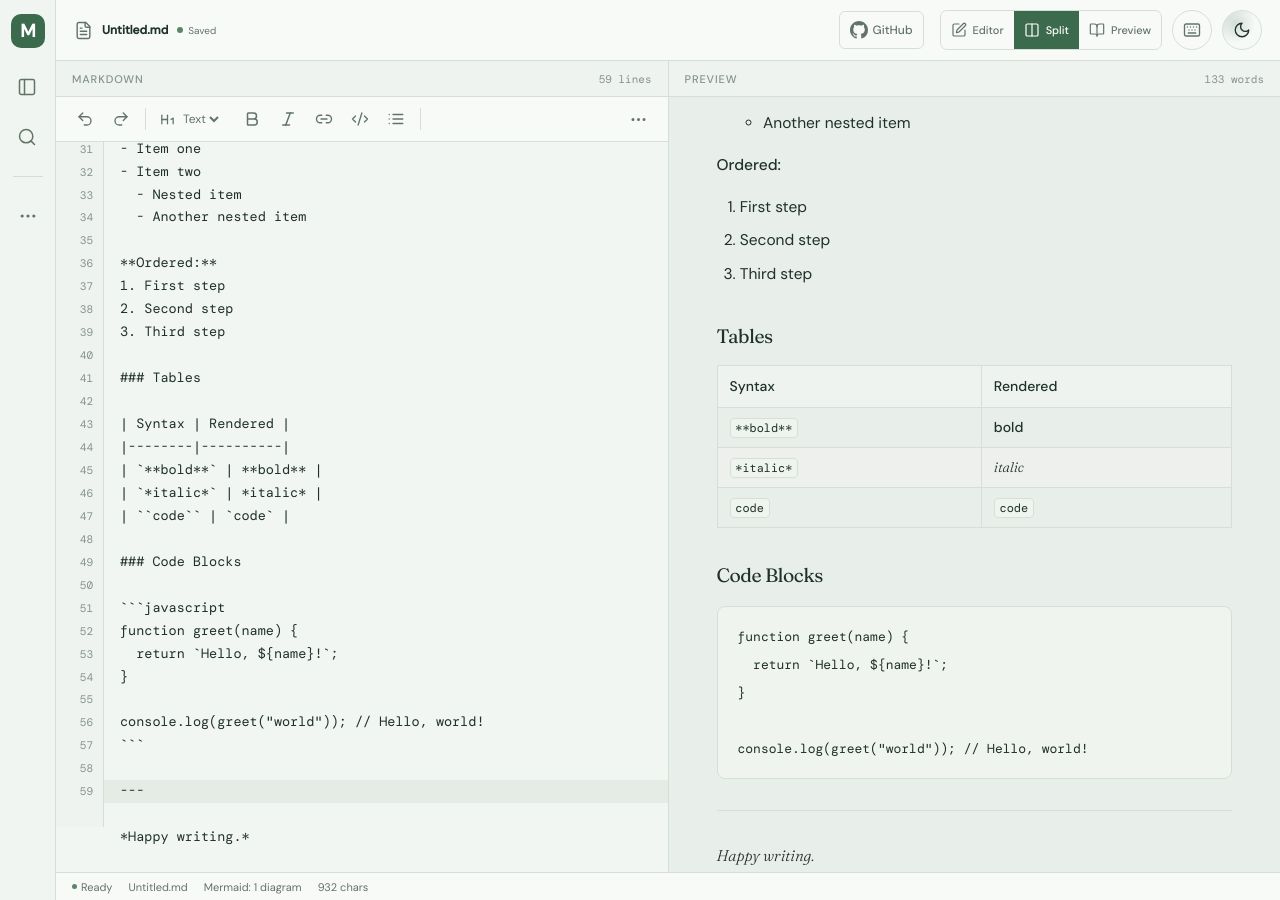
Scenario: Markdown Studio responsive shell › opens a markdown file from the web toolbar
(page scrolled)
Click the button named "Document actions" at (28, 216), box x1=7 y1=195 x2=49 y2=237
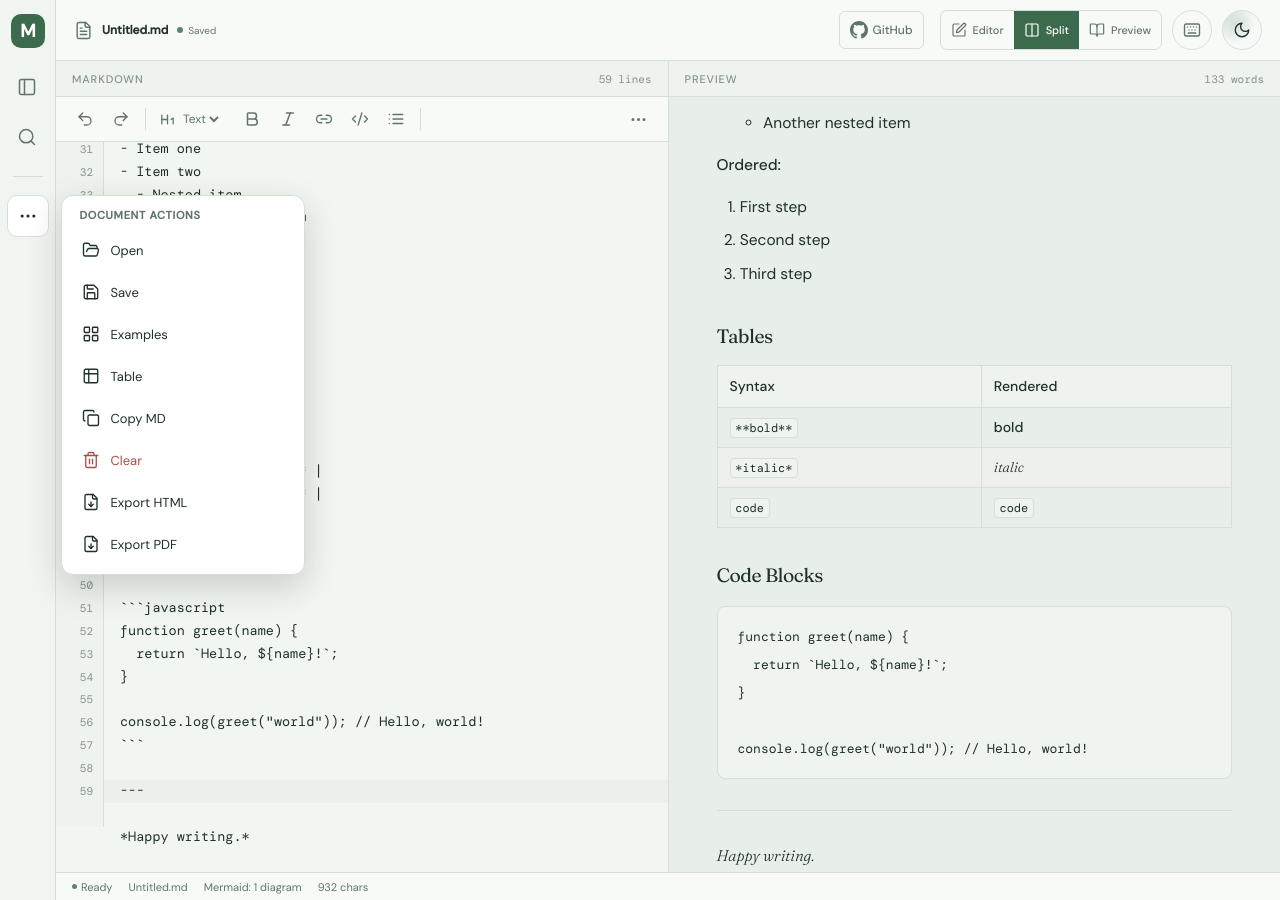
Click the button with aria-label "Open document" at (183, 250), box x1=72 y1=230 x2=294 y2=270
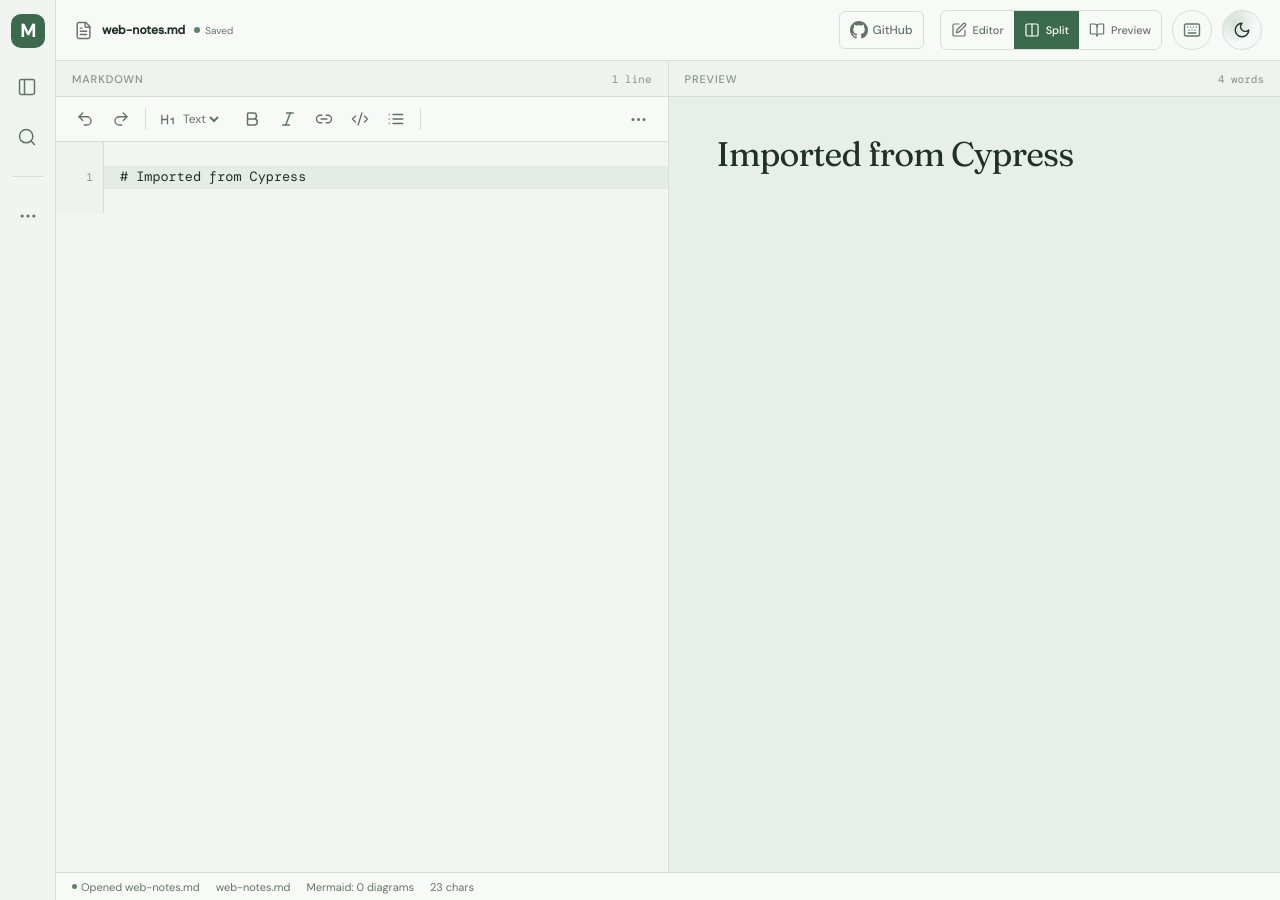
Expected: the text box holds "# Imported from Cypress", x1=56 y1=142 x2=668 y2=872
Expected: the text with class "status-item--document" reads "web-notes.md", x1=216 y1=880 x2=291 y2=894
Expected: the element with class "status-bar" reads "Opened web-notes.md", x1=81 y1=880 x2=200 y2=894
